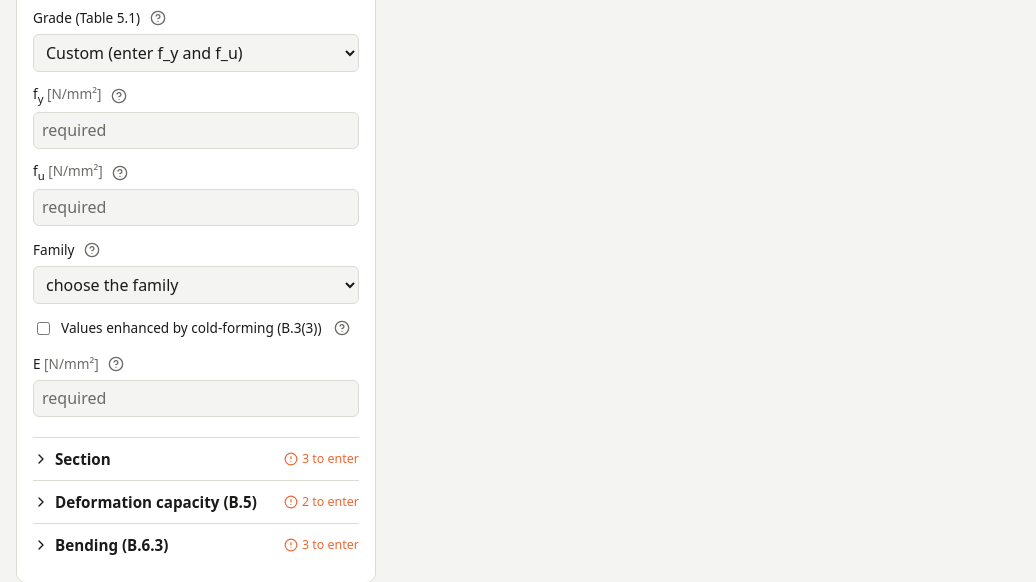
Test: the Section group › T-section: its dimension fields, each with a ? button
(page scrolled)
Click the button "Section 3 to enter" at (83, 459), box [33,438,359,480]
(page scrolled)
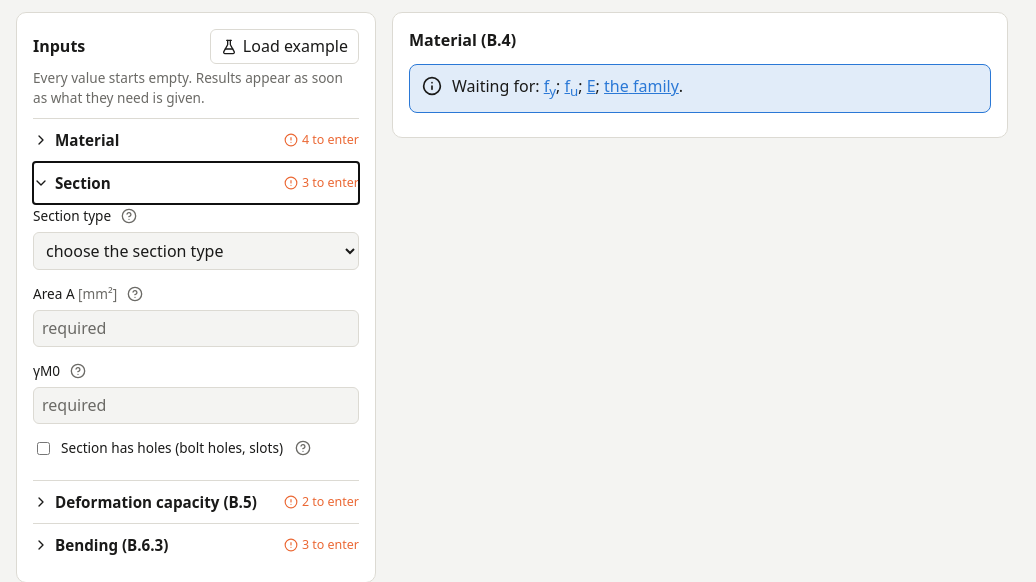
Select "T-section" in the dropdown labelled "Section type" at (196, 251), box [33,232,359,270]
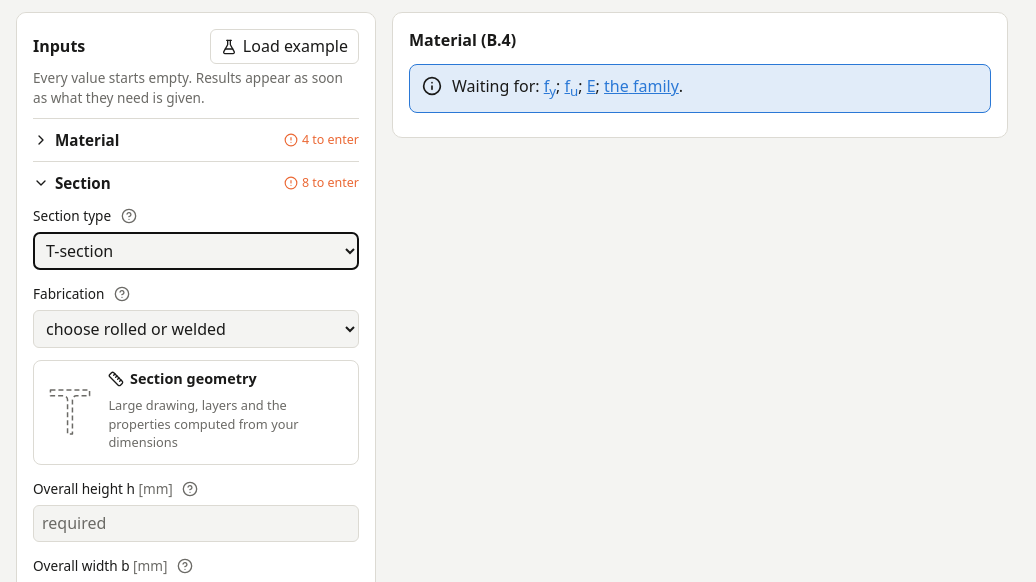
Select "Rolled (root radius r)" in the dropdown labelled "Fabrication" at (196, 329), box [33,310,359,348]
(page scrolled)
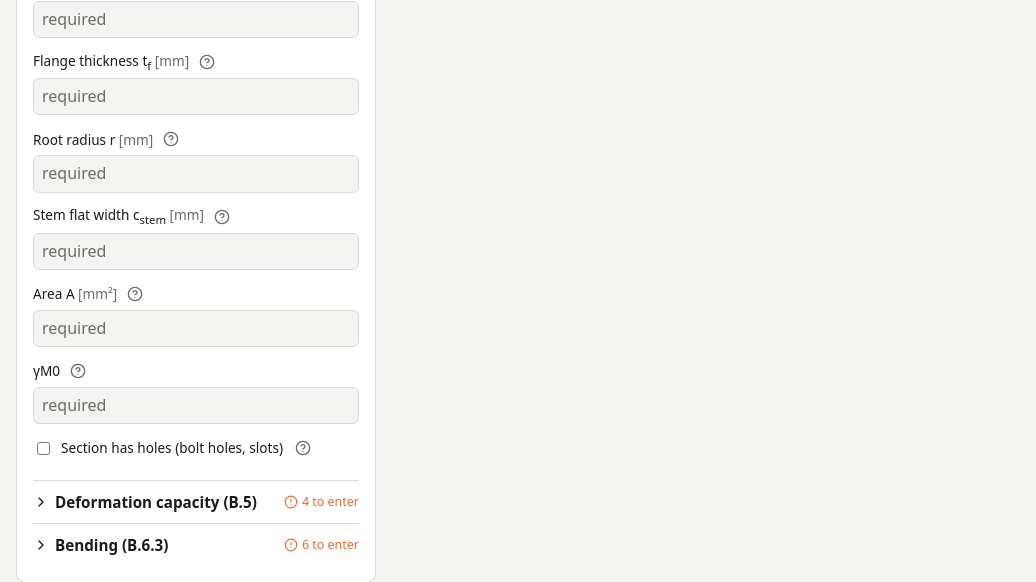
Expected: the button named "What is " is shown, [210,204,234,228]
Expected: the number field labelled "Stem flat width cstem [mm]" is not empty, [33,232,359,270]
